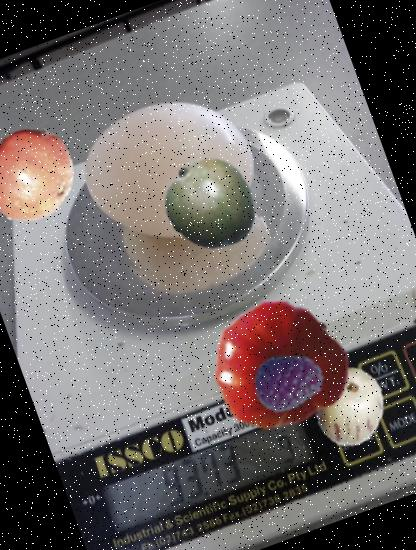Clementine: (0, 110, 92, 237)
Mango: (148, 141, 275, 268)
Pepino: (302, 359, 397, 454)
Raspberry: (244, 339, 334, 429)
Tomato: (192, 284, 362, 454)
